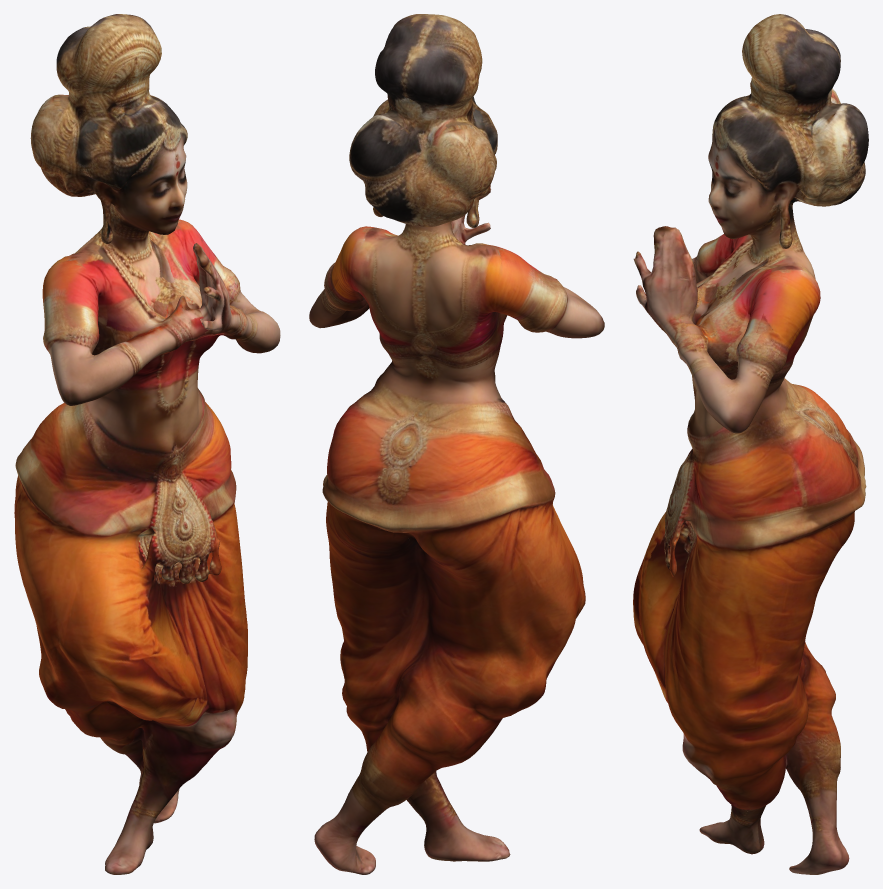
3 views of the same model, side by side, from view 1: azimuth 30°, elevation 25°; view 2: azimuth 150°, elevation 25°; view 3: azimuth 270°, elevation 25° (orthographic). The views are drawn at different scales.
Bounding box in the file's own units: 0.6252 × 2 × 0.5132.
Materials: 1 (1 with a texture image).
